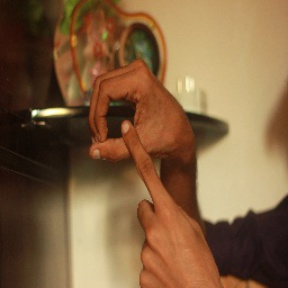Q: (88, 58, 203, 235)
